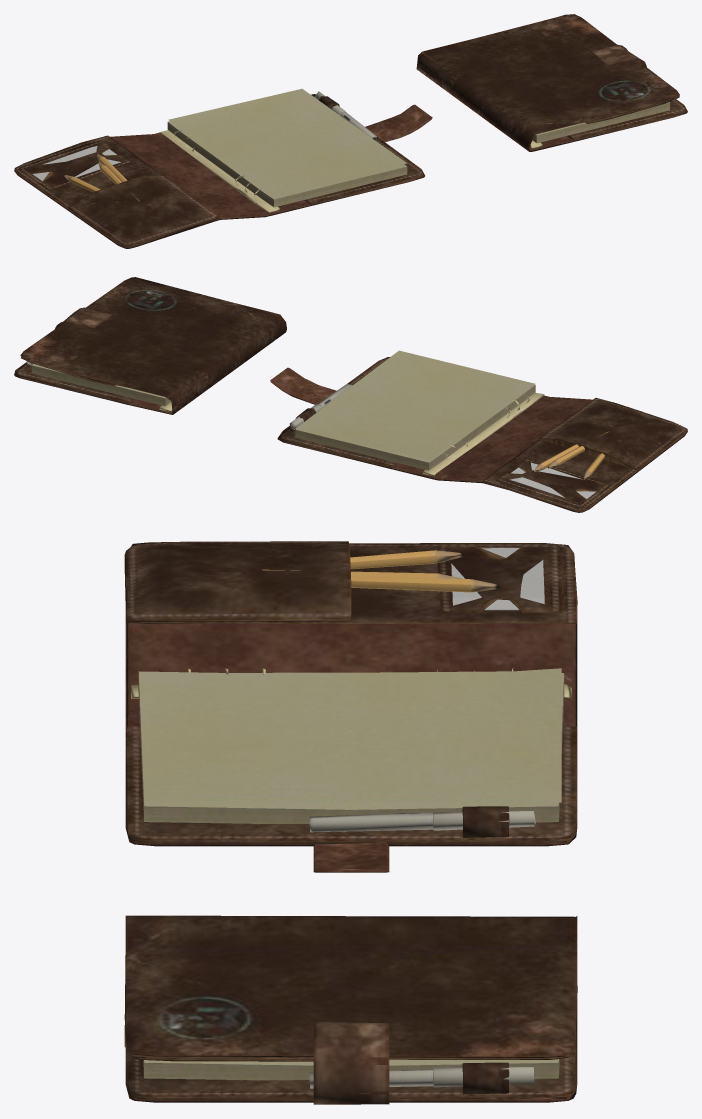
The model's file is books_pile.glb.
3 views of the same model, one above another, from view 1: azimuth 30°, elevation 25°; view 2: azimuth 150°, elevation 25°; view 3: azimuth 270°, elevation 25° (orthographic). The views are drawn at different scales.
Bounding box in the file's own units: 0.5835 × 0.0234 × 0.1996.
Materials: 1 (1 with a texture image).
